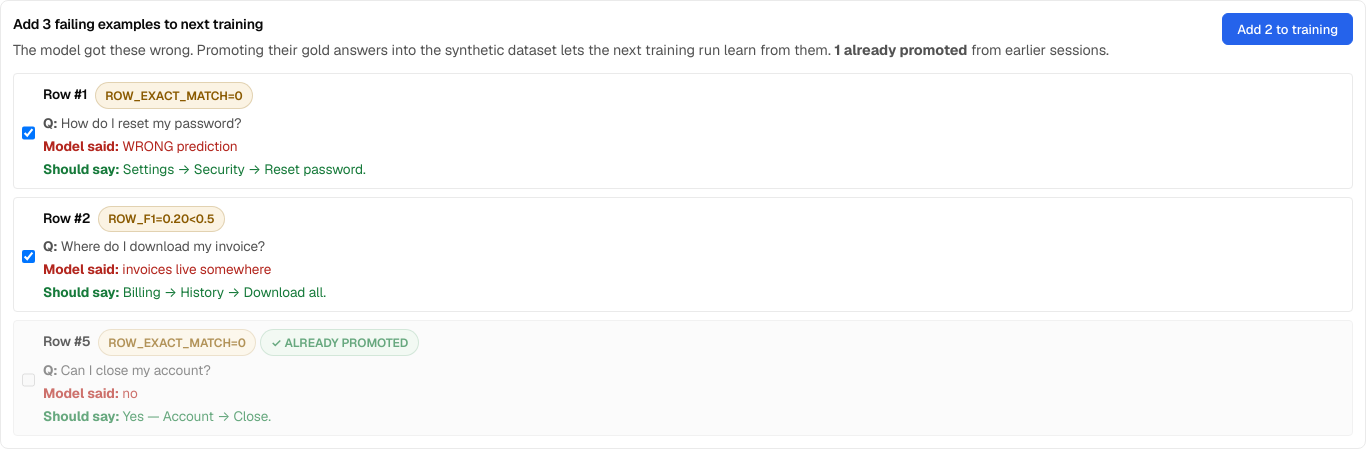
ActiveLearningPanel › toggling a checkbox updates the Add button count
Expected: the button with test id "active-learning-promote" reads "Add 2 to training", [1222, 13, 1353, 45]
Step 1. Click the checkbox named "Row 1 — row_exact_match=0" → (28, 133), box [22, 86, 35, 180]
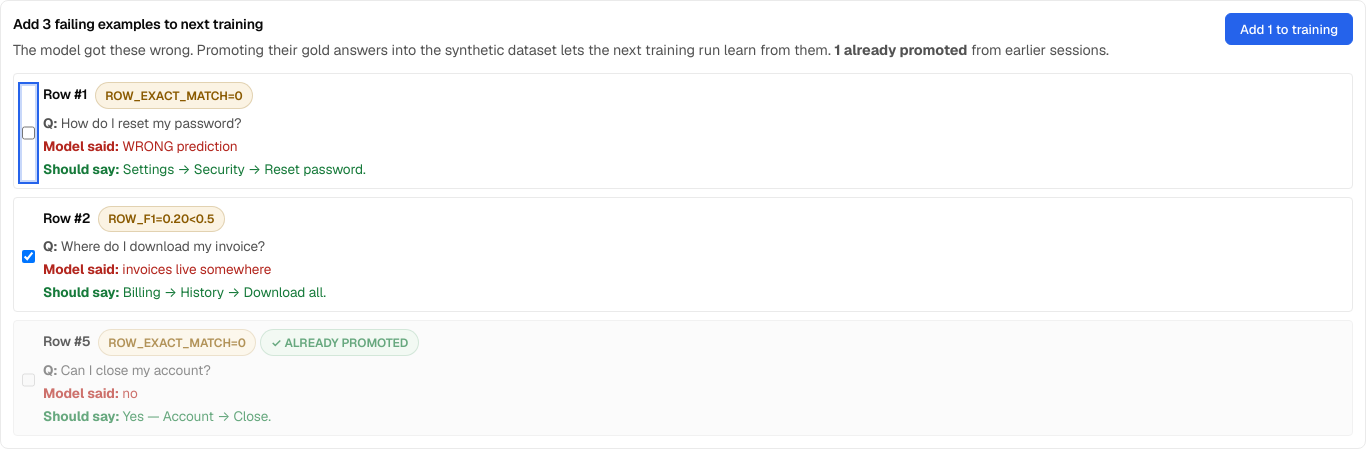
Expected: the button with test id "active-learning-promote" reads "Add 1 to training", [1225, 13, 1353, 45]
